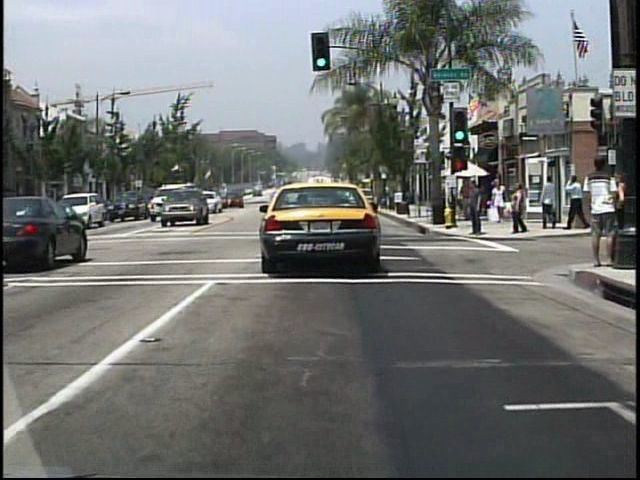person: (582, 152, 620, 275), (562, 171, 586, 231), (467, 182, 486, 239), (541, 174, 559, 231), (459, 179, 479, 226), (512, 183, 530, 233), (492, 179, 509, 226)
